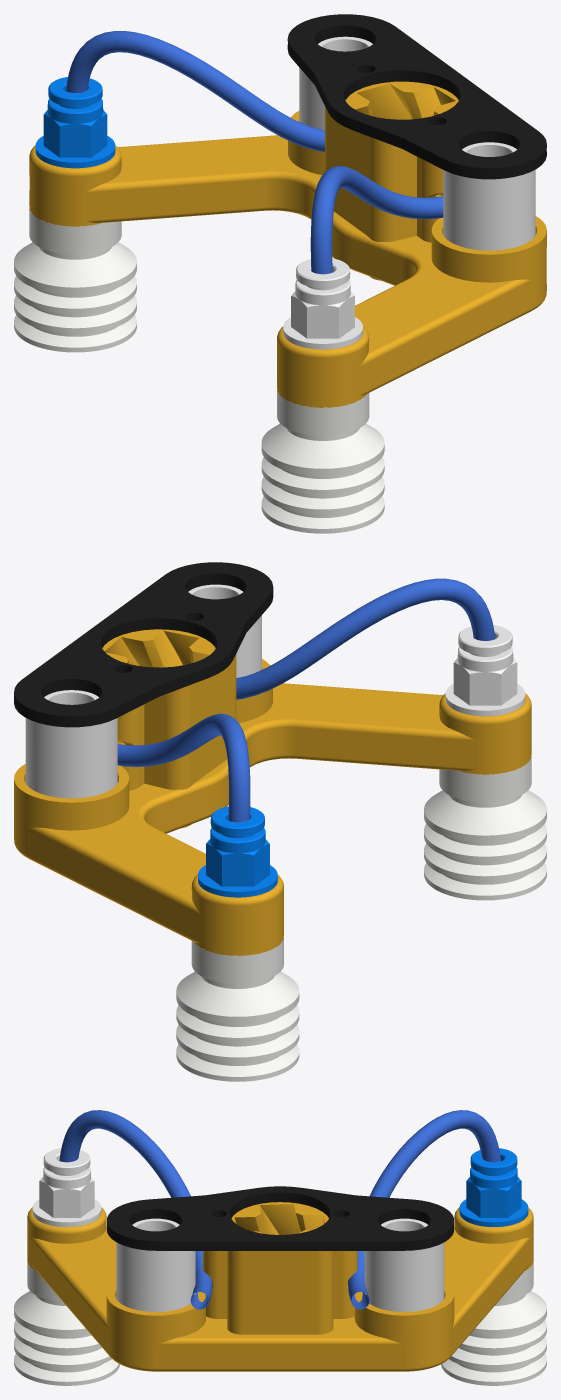
File: VacuumGrippers.fbx
The picture shows the model from 3 angles, top to bottom: view 1: azimuth 30°, elevation 25°; view 2: azimuth 150°, elevation 25°; view 3: azimuth 270°, elevation 25°; orthographic projection. The views are drawn at different scales.
Visible parts, largest first — view 1: Body1 (×10); view 2: Body1 (×10); view 3: Body1 (×10).
Part boxes in pixels (x1,y1,x2,y2): Body1 (×10): (14,14,546,533); Body1 (×10): (14,562,546,1081); Body1 (×10): (14,1110,546,1385).
Bounding box in the file's own units: 60.31 × 54.7 × 101.
